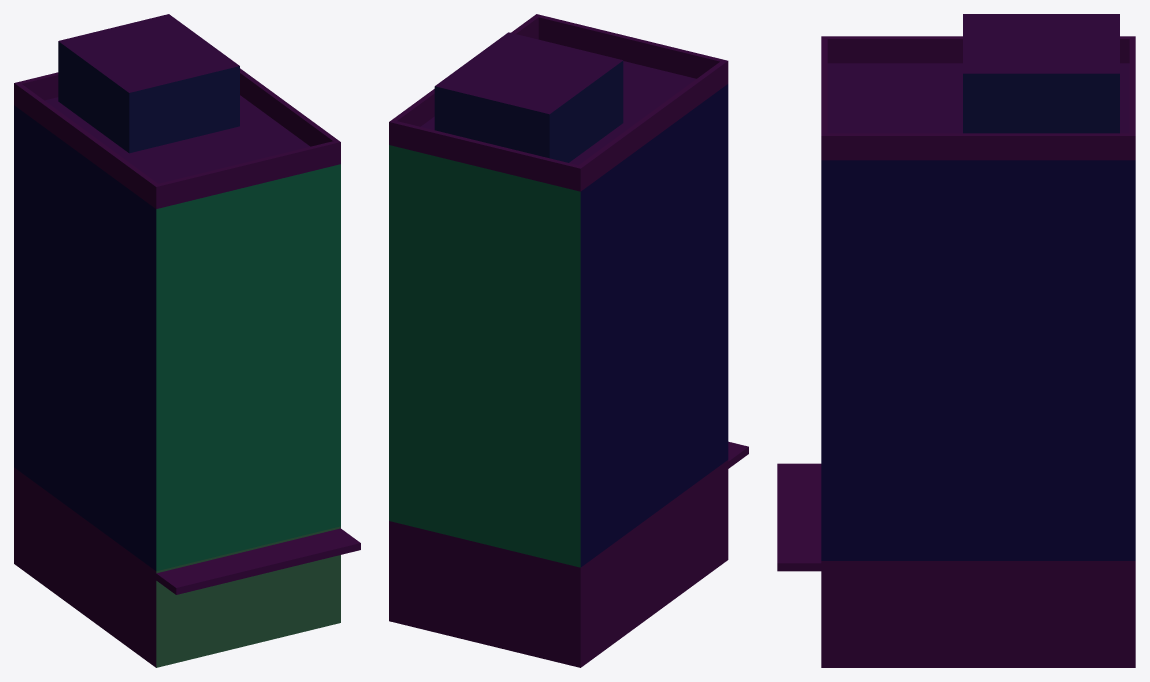
The model's file is walkup_a.lod2.glb.
The picture shows the model from 3 angles, left to right: view 1: azimuth 30°, elevation 25°; view 2: azimuth 150°, elevation 25°; view 3: azimuth 270°, elevation 25°; orthographic projection. The views are drawn at different scales.
Parts seen in each view (by area): view 1: walkup_a.lod2; view 2: walkup_a.lod2; view 3: walkup_a.lod2.
Part boxes in pixels (bbox=[...]): walkup_a.lod2: bbox=[14, 14, 360, 667]; walkup_a.lod2: bbox=[389, 14, 748, 667]; walkup_a.lod2: bbox=[777, 14, 1135, 667].
Size of the model in its own units: 9.6 by 25.8 by 14.6.
